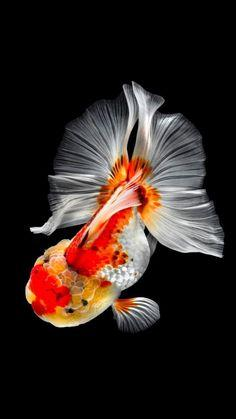goldfish: (17, 116, 216, 352)
